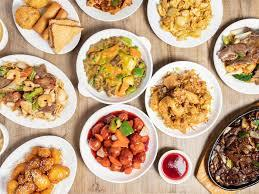Braised Crucian Carp: (78, 104, 157, 183), (144, 60, 222, 137), (0, 53, 77, 128), (75, 28, 152, 103), (203, 102, 259, 191), (0, 135, 76, 194), (10, 0, 79, 55), (146, 0, 223, 48), (212, 17, 259, 93)
